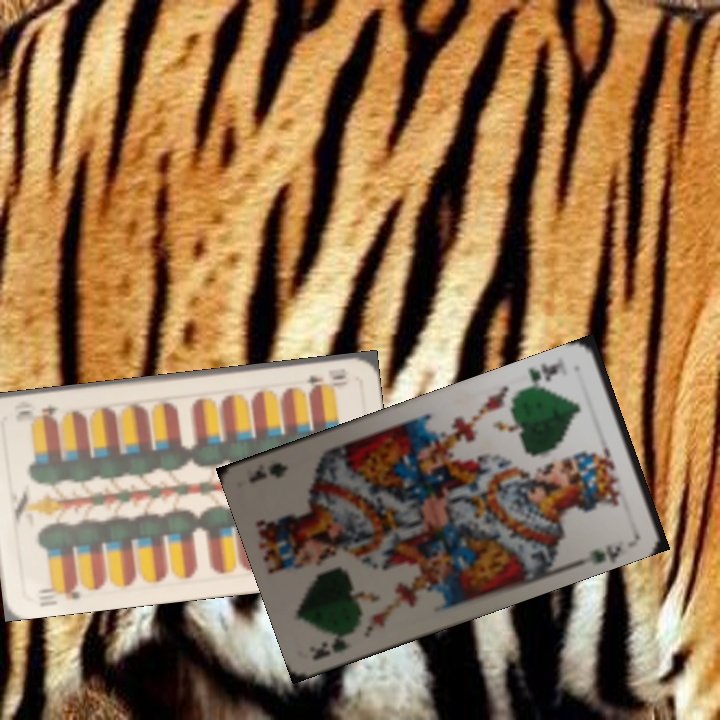E10: (302, 364, 351, 391), (34, 578, 82, 602)
GK: (306, 630, 350, 663), (521, 359, 564, 392)
